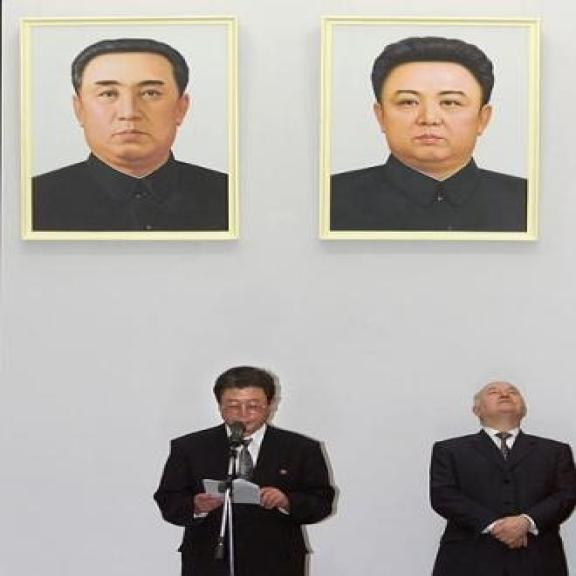face: (73, 53, 191, 162), (373, 64, 496, 168), (216, 386, 277, 434), (470, 380, 532, 426)
